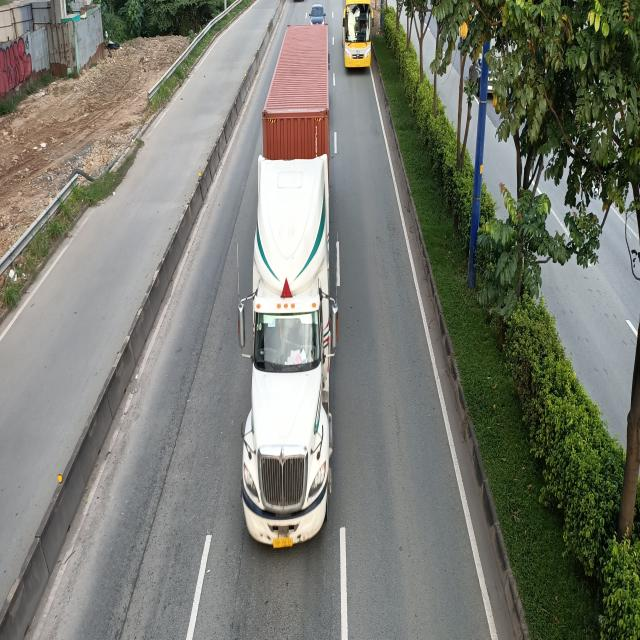coach: (342, 1, 377, 72)
container: (238, 28, 338, 544)
